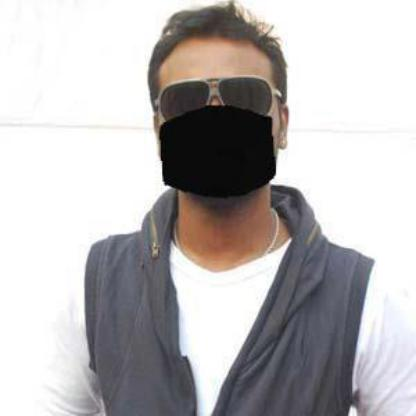Fabric/Cloth Mask: (152, 47, 278, 191)
